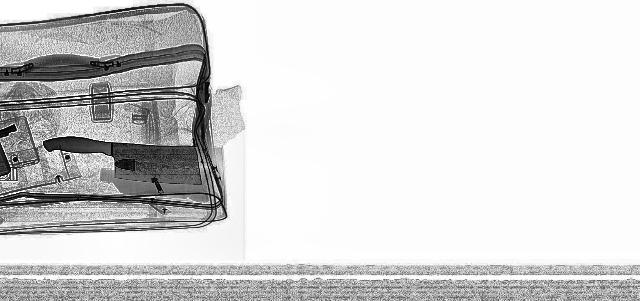Gun: (0, 122, 30, 134)
Knife: (25, 132, 218, 186)
